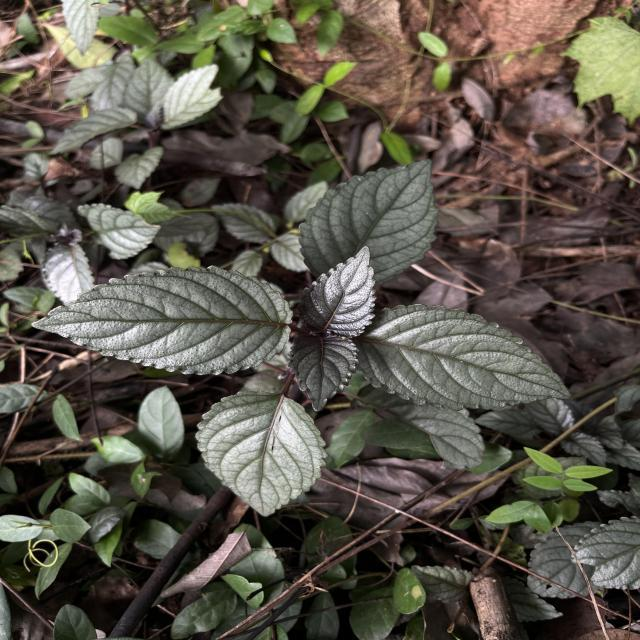Hemigraphis colorata: (27, 262, 296, 379), (352, 300, 578, 416), (293, 154, 442, 289), (192, 386, 331, 519), (290, 242, 380, 342), (285, 332, 363, 416)
